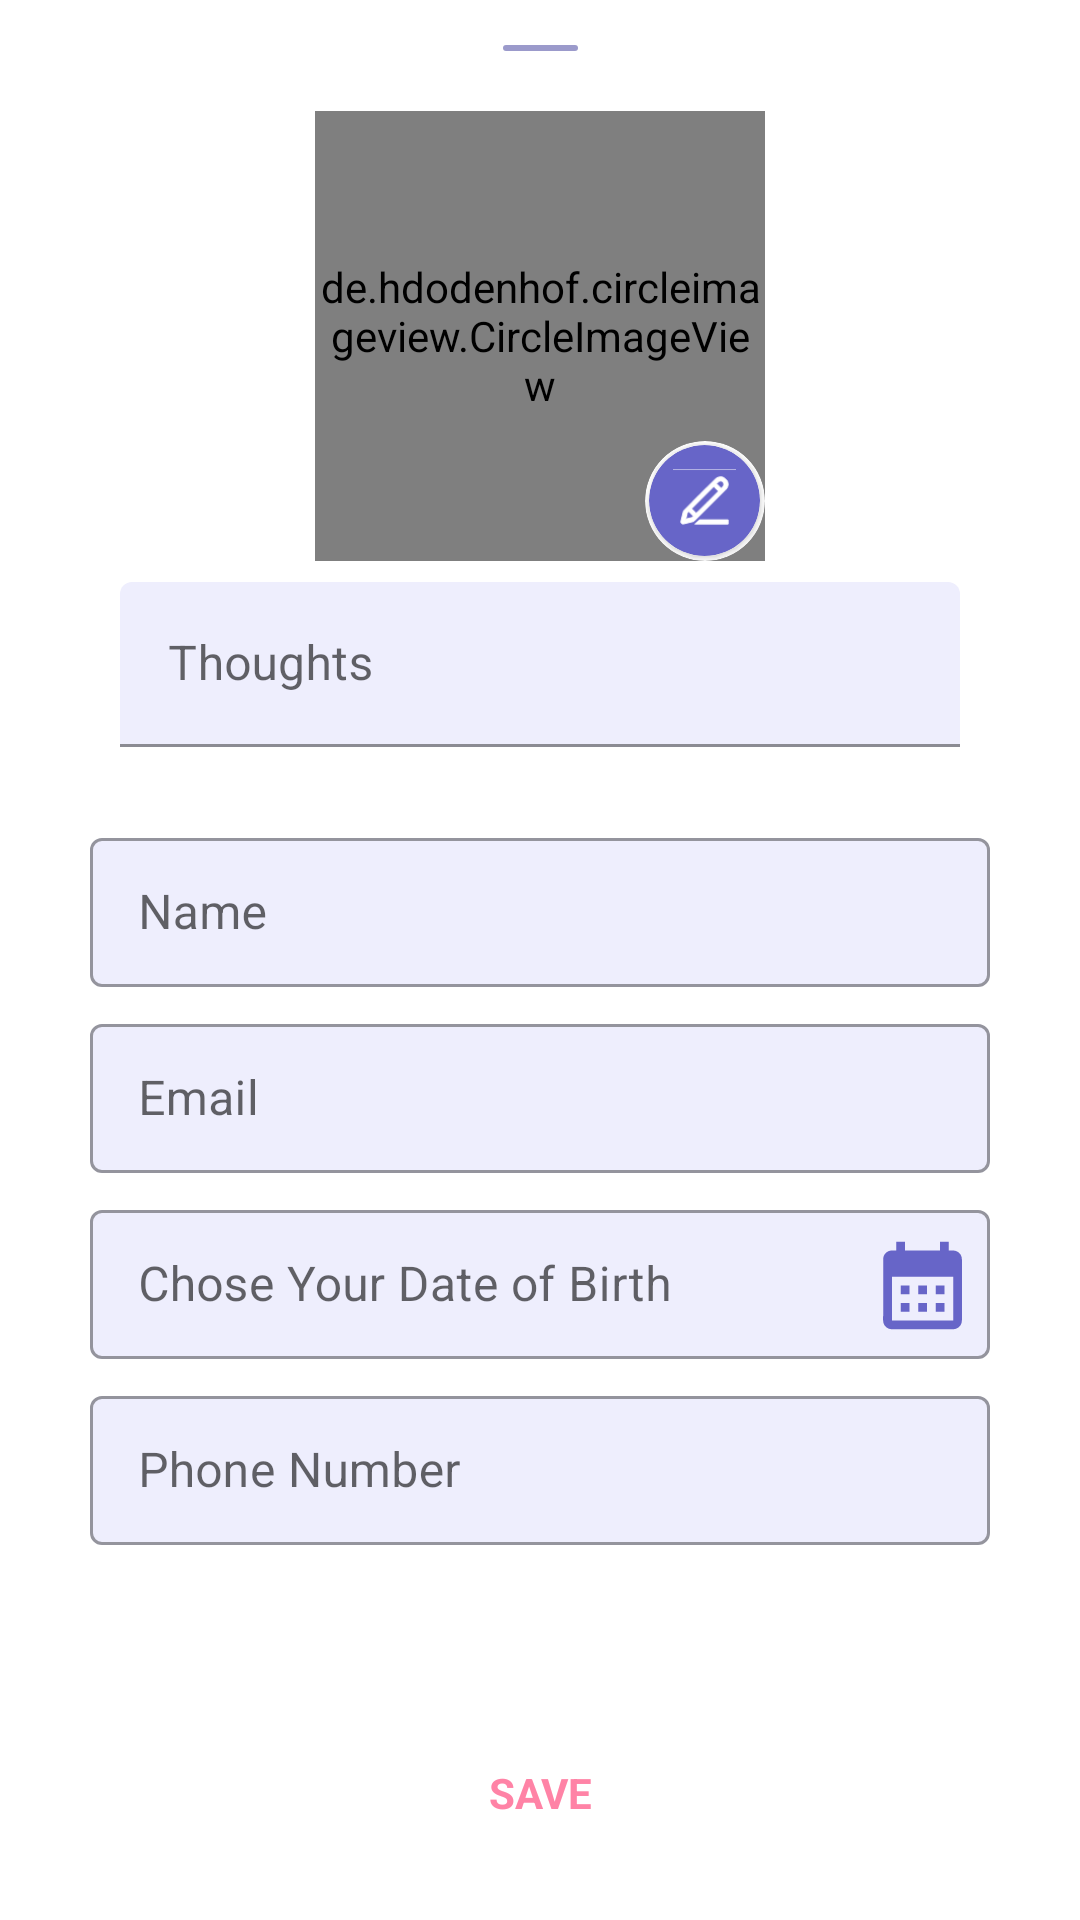

Named icons in this screenshot (1080px×1920px) and their bounding boxes, (x1=x1, y1=y1, x2=x2, y2=y2):
calendar: (x1=883, y1=1241, x2=962, y2=1330)
pencil: (x1=649, y1=445, x2=760, y2=556)
